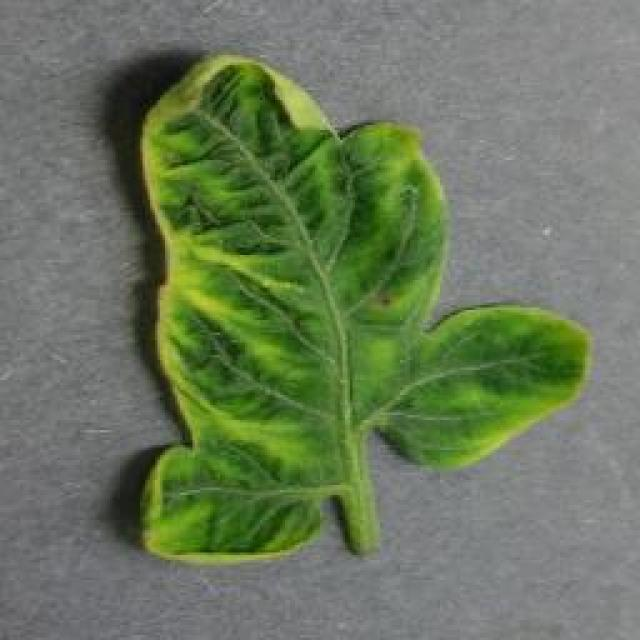Tom_Yellow_Leaf_Curl_Virus: (136, 62, 368, 560)
